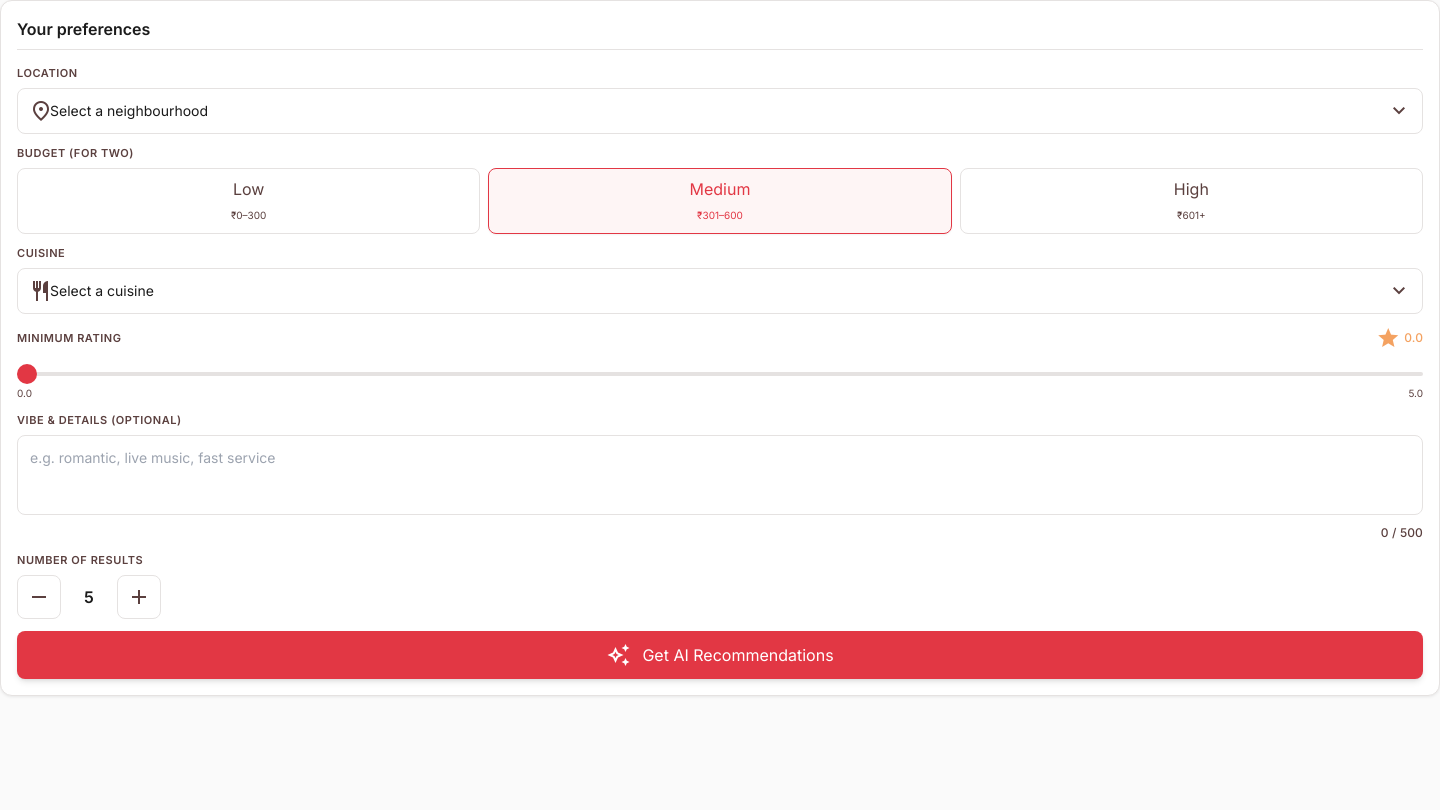
Test: PreferenceForm › requires location and cuisine before submit
The width and height of the screenshot is (1440, 810).
Click the button "Get AI Recommendations": [720, 655] box [17,631,1423,679]
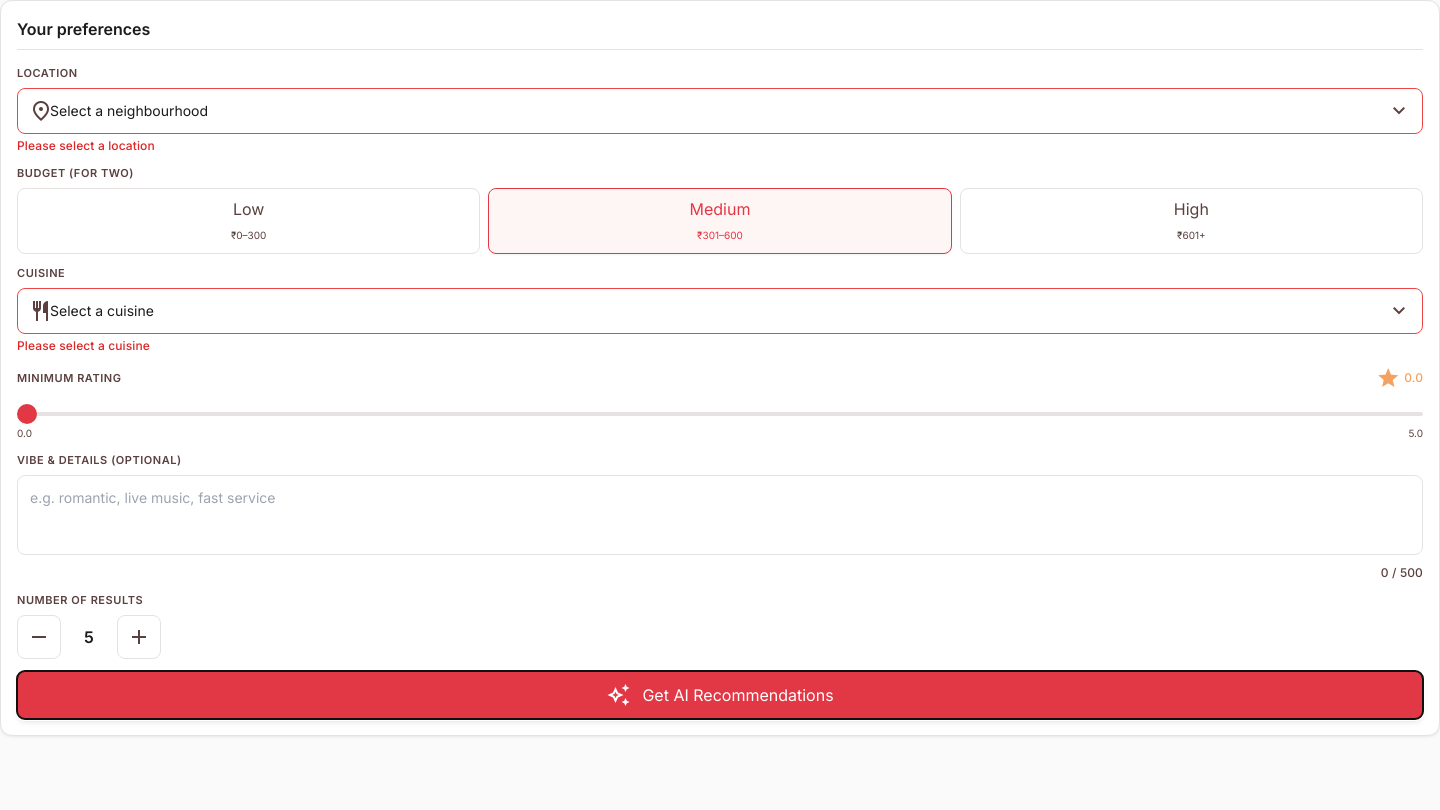
Check: the text "Please select a location" is shown, box [17,138,155,153]
